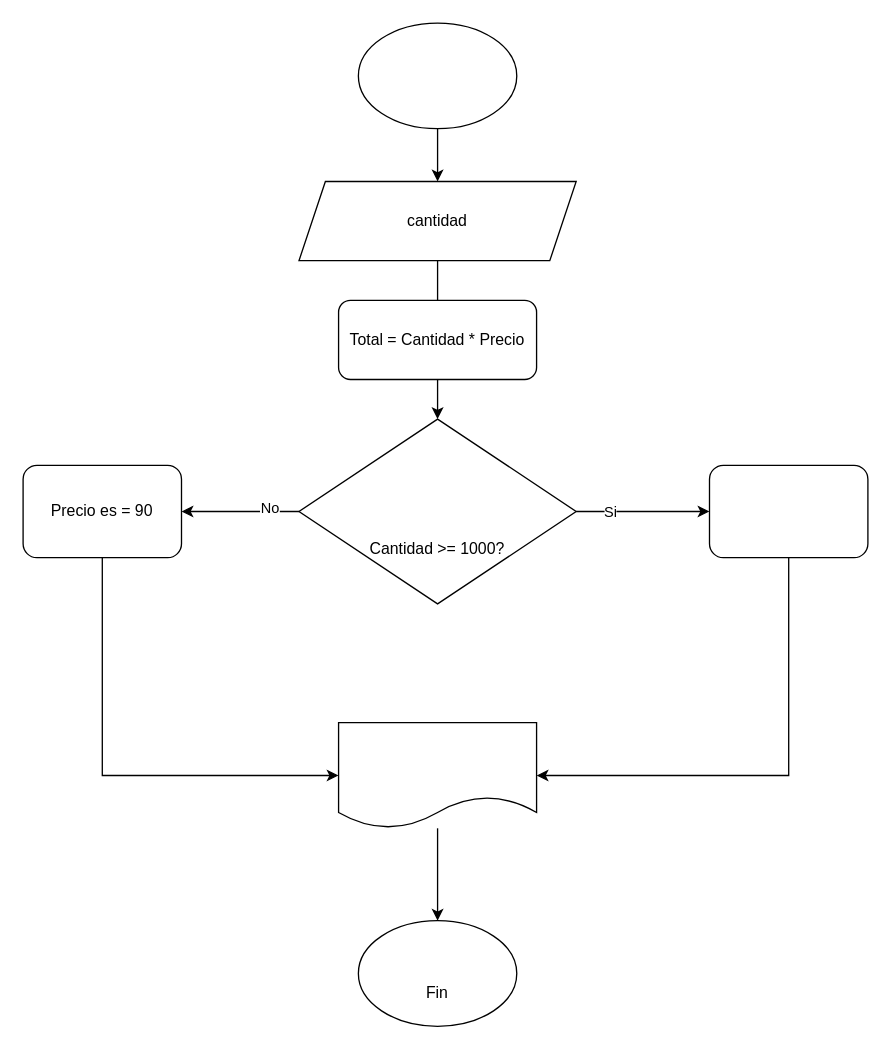
The diagram is 891 pixels wide and 1049 high, and some of its shapes have lost their labels. The shapes that lost their labels are listed below. From the top down, each one's centre as x and y in pixels, then its label:
the point at 437,75: Inicio
the point at 788,511: Precio es = 85
the point at 437,774: Total
